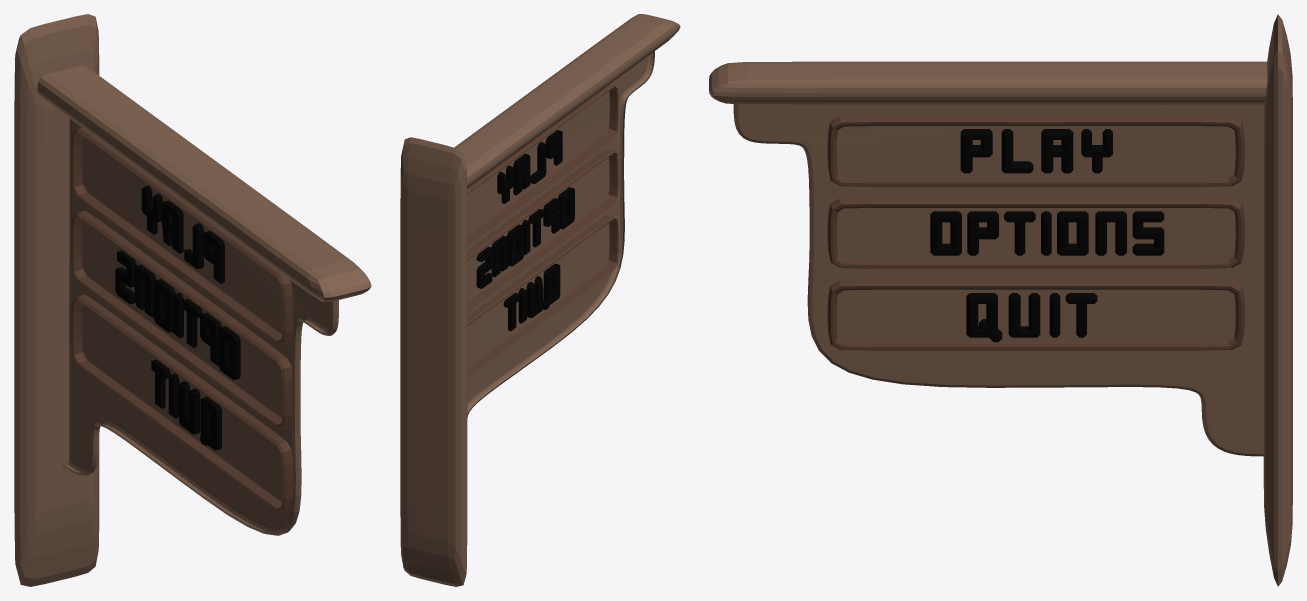
The model's file is InfoBoard.fbx.
3 views of the same model, side by side, from view 1: azimuth 30°, elevation 25°; view 2: azimuth 150°, elevation 25°; view 3: azimuth 270°, elevation 25° (orthographic). The views are drawn at different scales.
Visible parts, largest first — view 1: Board, SizeFrame, TopFram, Frame2.001, Frame2.002, Frame1.001, Q.001, O.001, U.001, A.001, O.002, N.001 (+8 smaller); view 2: SizeFrame, Board, TopFram, Frame2.001, Frame2.002, Frame1.001, Q.001, A.001, U.001, O.002, S.001, N.001 (+7 smaller); view 3: Board, TopFram, SizeFrame, Frame1.001, Frame2.001, Frame2.002, Q.001, A.001, O.001, S.001, O.002, U.001 (+6 smaller).
Boxes of the visible parts, x1,y1,x2,y2 form: Board: (61, 119, 338, 535); SizeFrame: (14, 14, 99, 586); TopFram: (37, 65, 371, 301); Frame2.001: (71, 210, 292, 428); Frame2.002: (71, 294, 292, 512); Frame1.001: (71, 127, 292, 344); Q.001: (199, 396, 221, 450); O.001: (219, 326, 240, 380); U.001: (179, 381, 200, 434); A.001: (162, 200, 183, 253); O.002: (154, 279, 175, 332); N.001: (134, 264, 155, 317); SizeFrame: (400, 137, 467, 586); Board: (467, 51, 654, 417); TopFram: (454, 14, 680, 188); Frame2.001: (467, 149, 618, 311); Frame2.002: (467, 215, 618, 377); Frame1.001: (467, 84, 618, 245); Q.001: (543, 263, 560, 309); A.001: (513, 153, 530, 195); U.001: (526, 276, 543, 318); O.002: (507, 224, 523, 266); S.001: (476, 246, 493, 288); N.001: (491, 235, 508, 277); Board: (733, 104, 1263, 456); TopFram: (709, 61, 1267, 104); SizeFrame: (1263, 14, 1292, 586); Frame1.001: (827, 115, 1244, 186); Frame2.001: (827, 197, 1244, 268); Frame2.002: (827, 279, 1244, 350); Q.001: (966, 293, 1002, 342); A.001: (1041, 129, 1073, 173); O.001: (930, 211, 961, 255); S.001: (1132, 211, 1164, 255); O.002: (1057, 211, 1088, 255); U.001: (1008, 293, 1040, 337).
Size of the model in its own units: 144 by 935 by 905.
